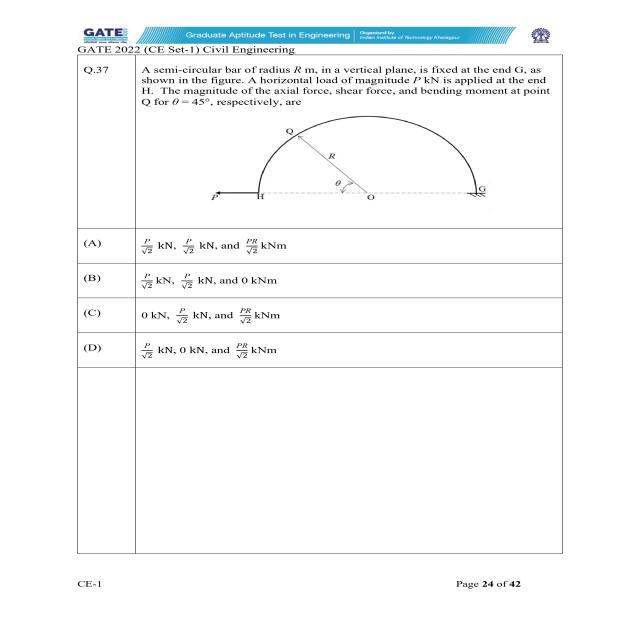Answer_Block: (75, 228, 563, 366)
Question_Answer_Block: (77, 55, 560, 368)
Question_Block: (72, 54, 558, 229)
Question_Paper_Area: (74, 43, 562, 556)
